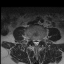CCS_stenosis: (35, 36, 37, 48)
LFS_stenosis: (39, 36, 41, 44)
LLS_normal: (37, 37, 39, 46)
RFS_stenosis: (30, 36, 33, 44)
RLS_normal: (33, 37, 35, 46)
